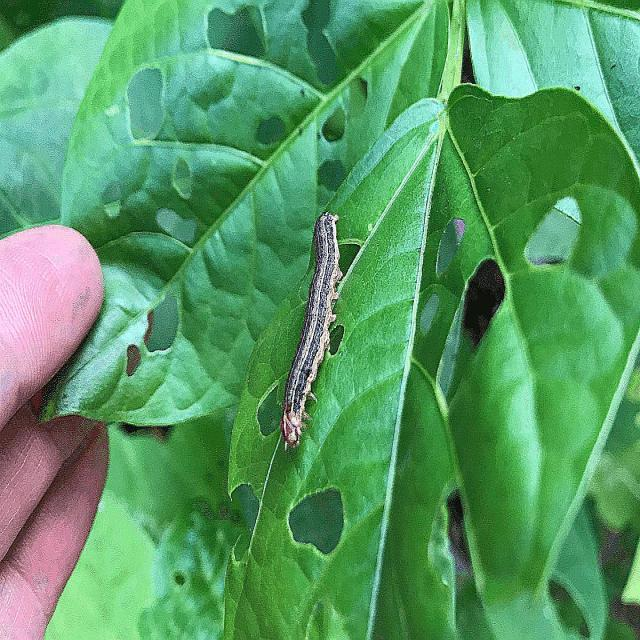Armyworm: (283, 177, 348, 460)
Armyworm_damage: (424, 223, 507, 421), (502, 175, 597, 312), (397, 487, 504, 603), (111, 39, 179, 156), (196, 1, 281, 89), (279, 468, 350, 573), (222, 457, 264, 585), (286, 1, 348, 86), (148, 208, 216, 275), (135, 291, 190, 364), (245, 361, 285, 433), (335, 63, 374, 132), (243, 102, 290, 159), (186, 69, 238, 120), (430, 215, 469, 274), (113, 339, 148, 403), (96, 174, 131, 237), (410, 280, 446, 340), (319, 111, 354, 161), (168, 160, 204, 202)
